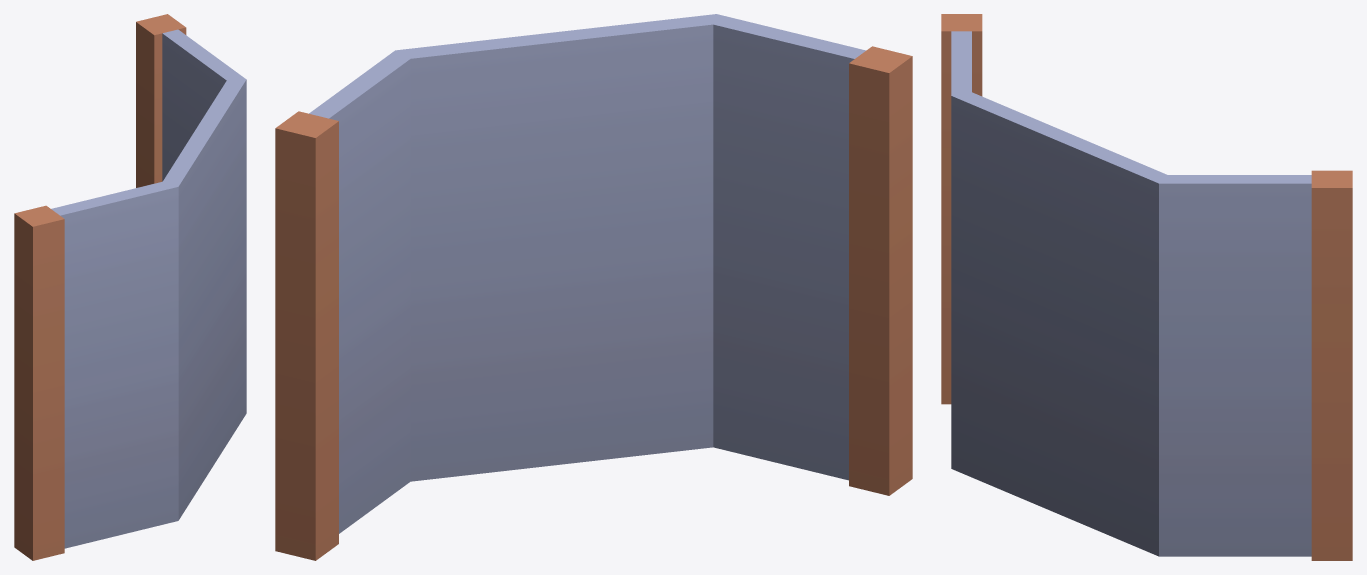
The model's file is kenney-fantasy-town-wall-corner-diagonal.glb.
3 renders of one model, left to right at view 1: azimuth 30°, elevation 25°; view 2: azimuth 150°, elevation 25°; view 3: azimuth 270°, elevation 25°, orthographic. The views are drawn at different scales.
Visible parts, largest first — view 1: wall-corner-diagonal; view 2: wall-corner-diagonal; view 3: wall-corner-diagonal.
Part boxes in pixels (x1,y1,x2,y2): wall-corner-diagonal: (14,14,246,560); wall-corner-diagonal: (275,14,912,560); wall-corner-diagonal: (941,14,1352,560).
Size of the model in its own units: 1 by 1 by 1.
1 material, 1 textured.
